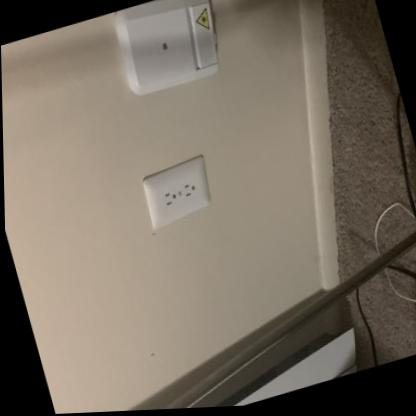OUTLET: (137, 151, 219, 232)
